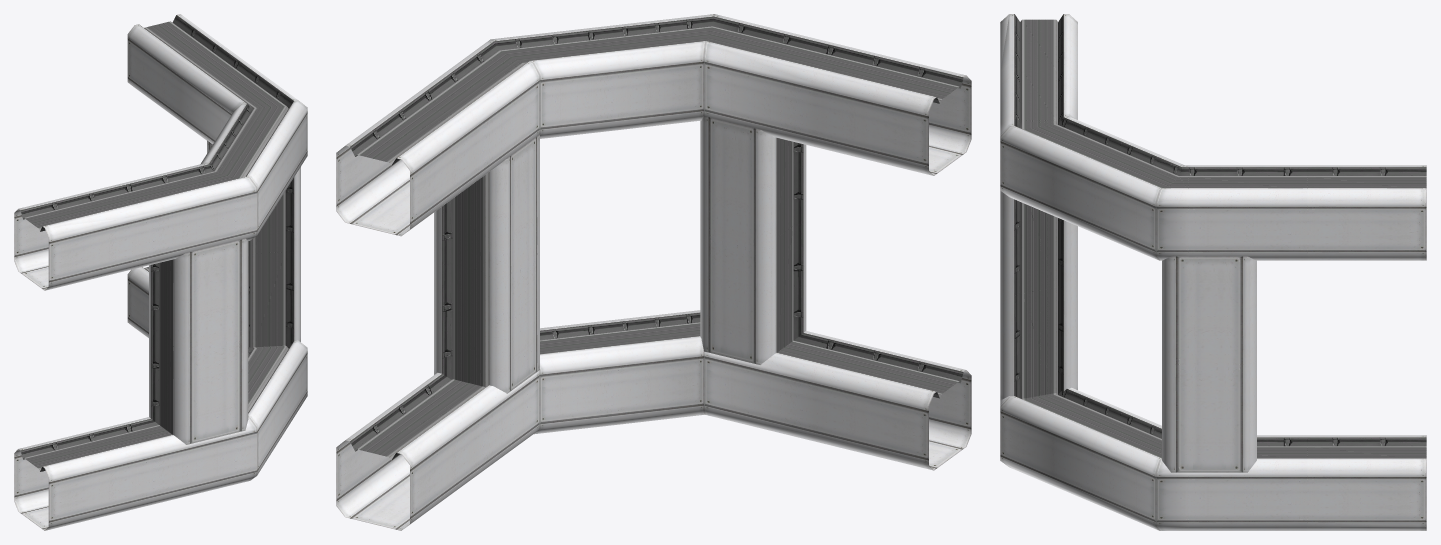
File: CeilingBrace_1x6cappedcorner.FBX
3 views of the same model, side by side, from view 1: azimuth 30°, elevation 25°; view 2: azimuth 150°, elevation 25°; view 3: azimuth 270°, elevation 25° (orthographic). The views are drawn at different scales.
Parts seen in each view (by area): view 1: CeilingBrace_1x6cappedcorner; view 2: CeilingBrace_1x6cappedcorner; view 3: CeilingBrace_1x6cappedcorner.
Part boxes in pixels (x1,y1,x2,y2): CeilingBrace_1x6cappedcorner: [14, 14, 307, 530]; CeilingBrace_1x6cappedcorner: [336, 14, 971, 530]; CeilingBrace_1x6cappedcorner: [1000, 14, 1426, 530].
Bounding box in the file's own units: 7.15 × 6.3 × 7.15.
